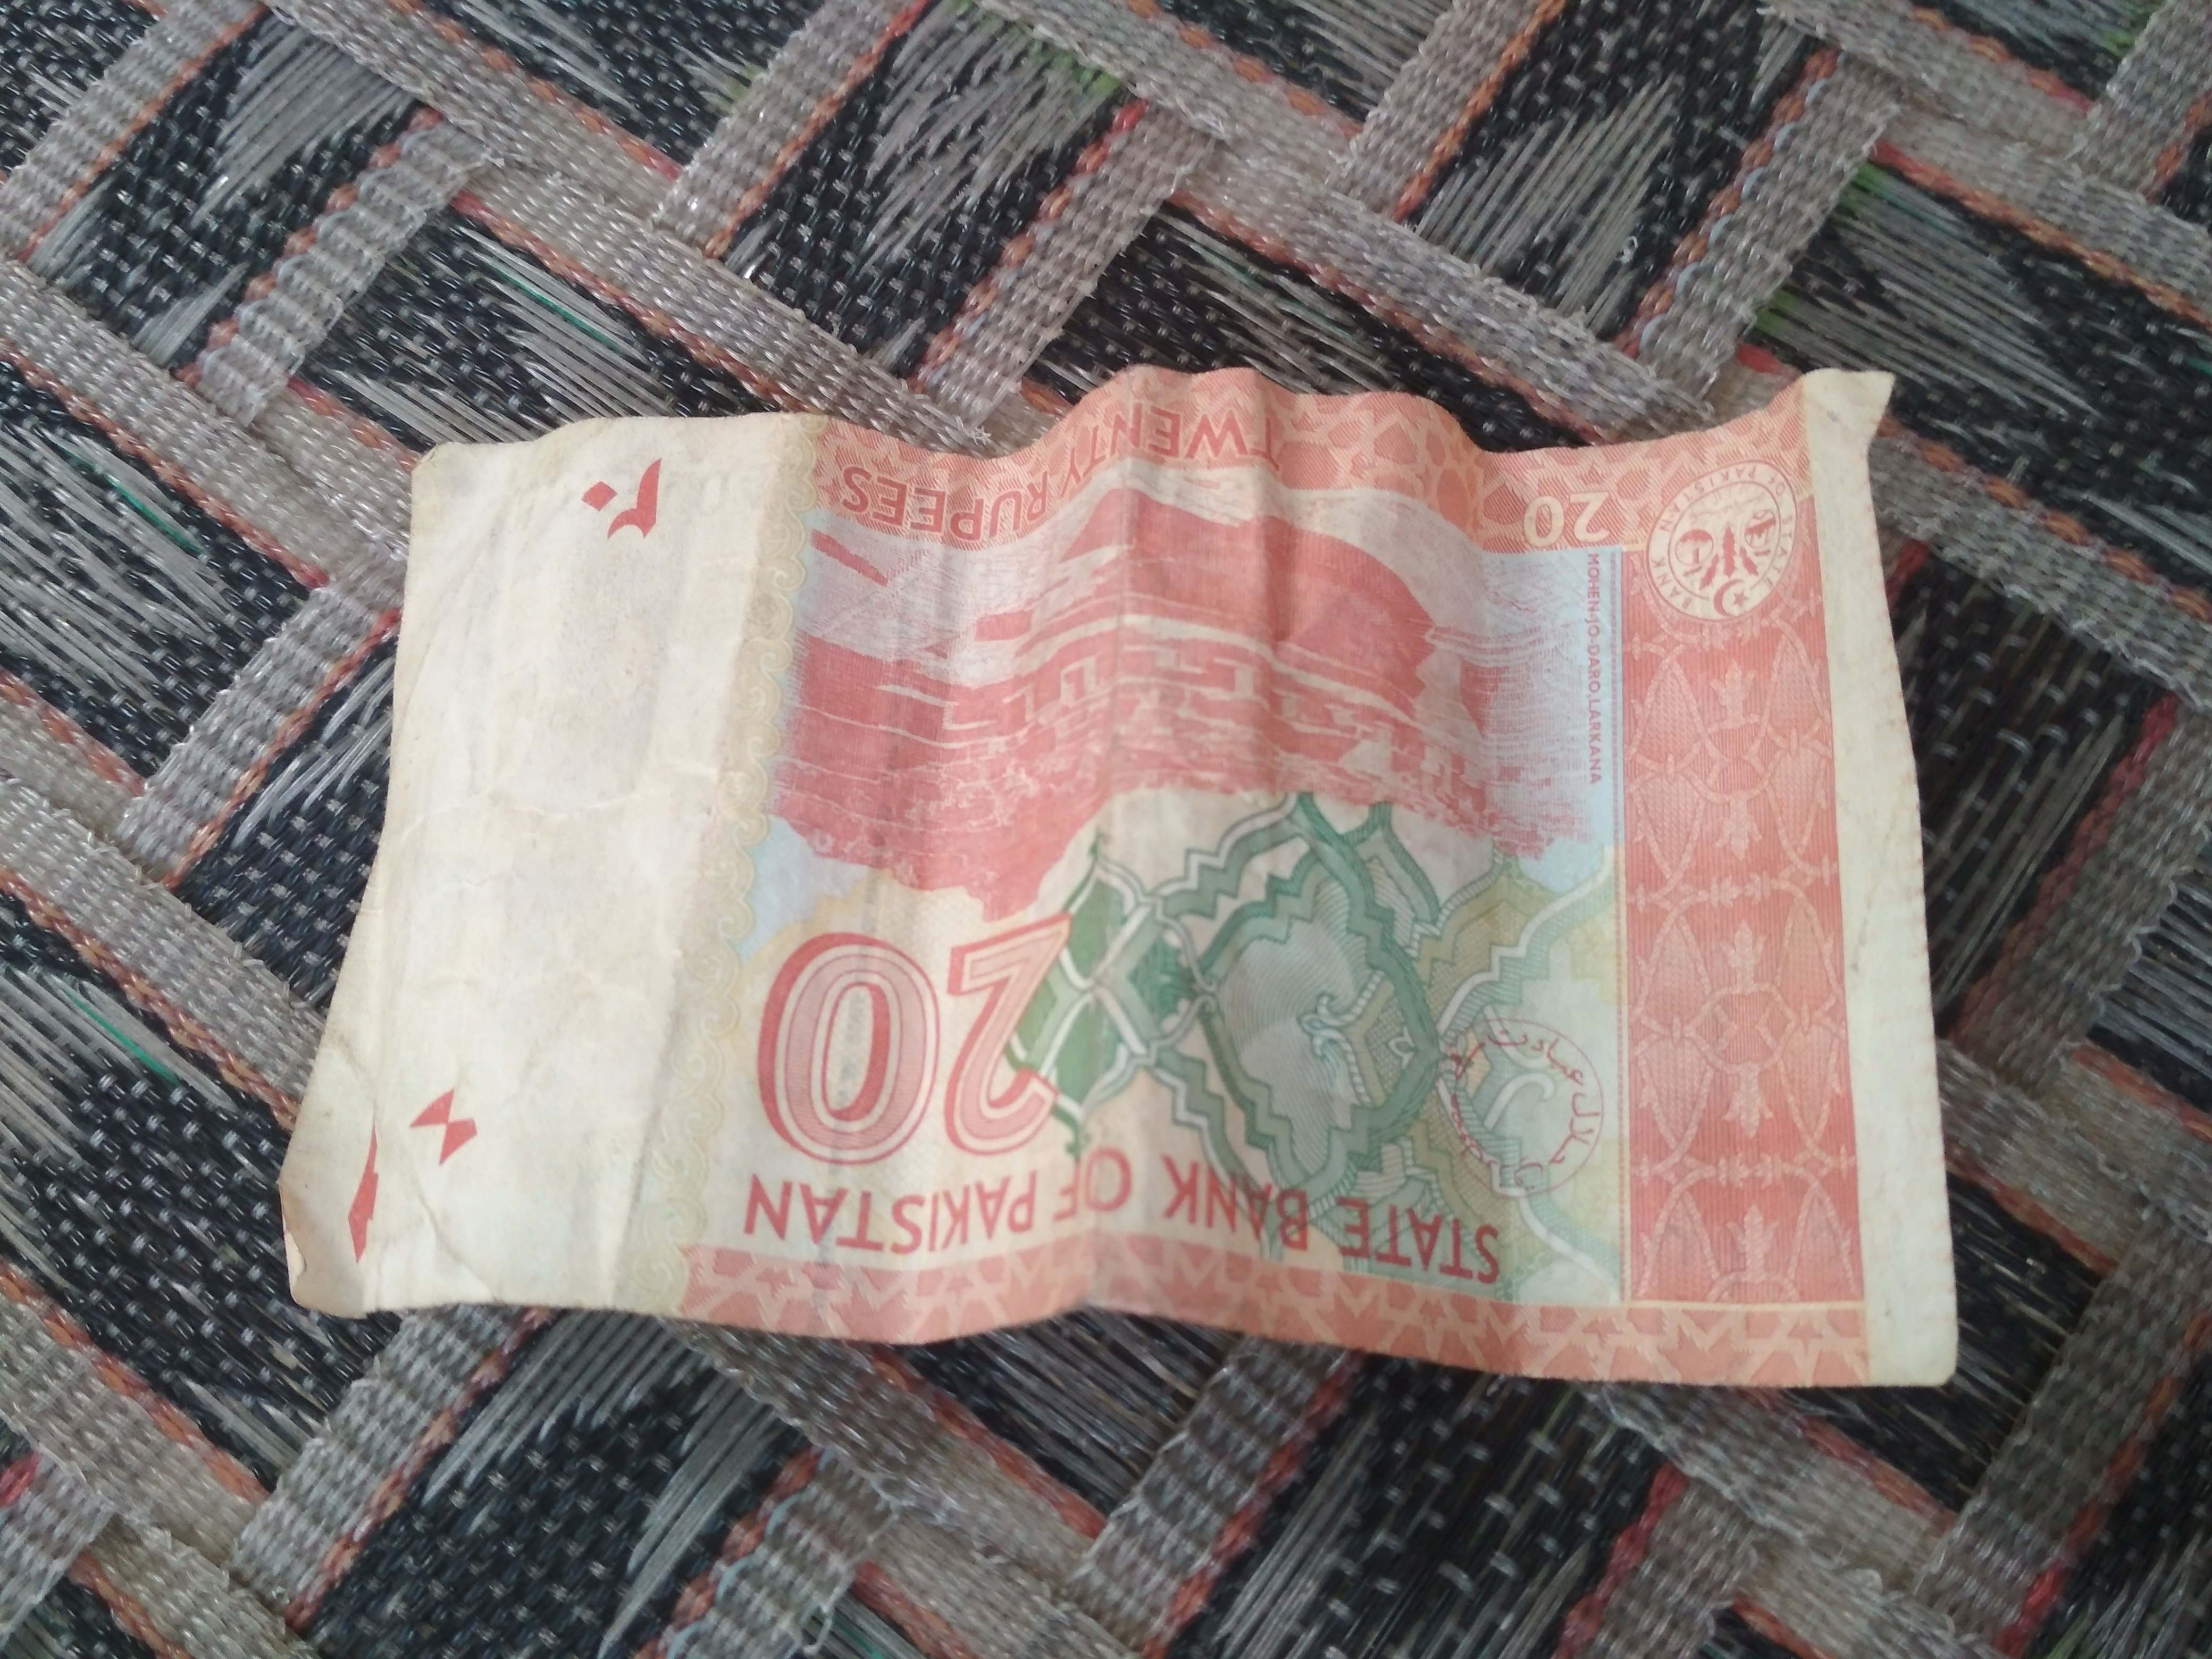20 rupee: (266, 343, 2062, 1373)
